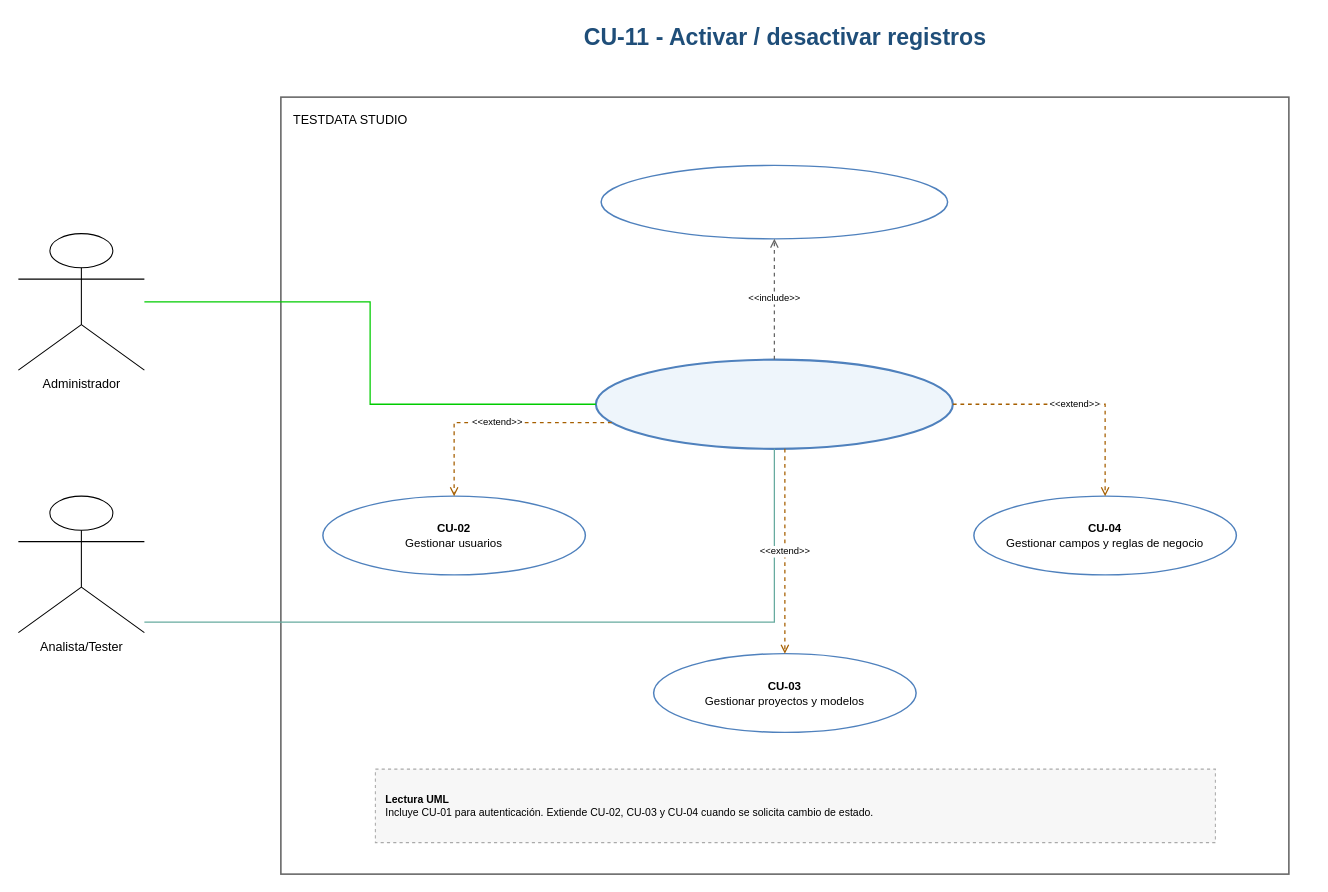
This 1328x892 diagram has some shape labels left out. The shapes that lost their labels are listed below. From the top down, each one's box as (x1, y1, x2, y2) in pixels, then its label:
(600, 164, 948, 239): CU-01 Iniciar sesión
(594, 358, 953, 449): CU-11 Activar / desactivar registros
